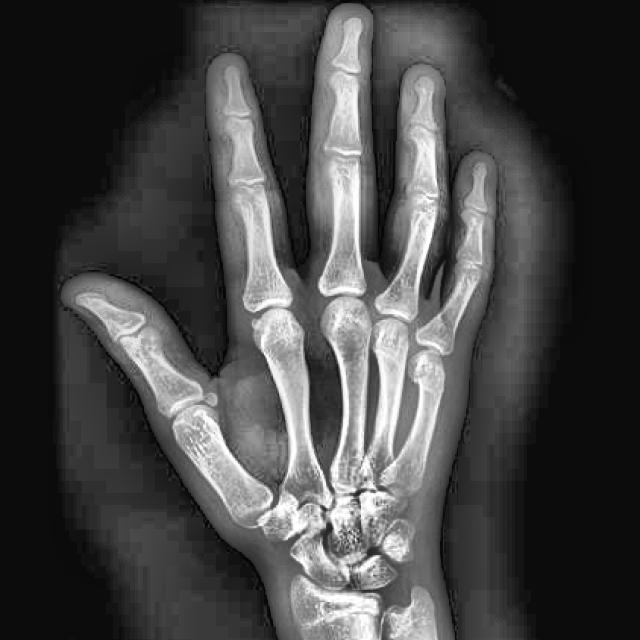fracture: (412, 370, 433, 393)
